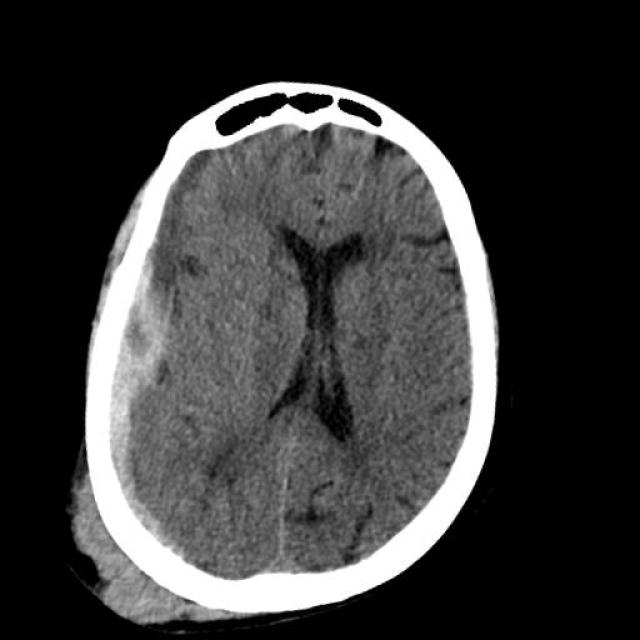Subdural: (6, 242, 228, 586)
